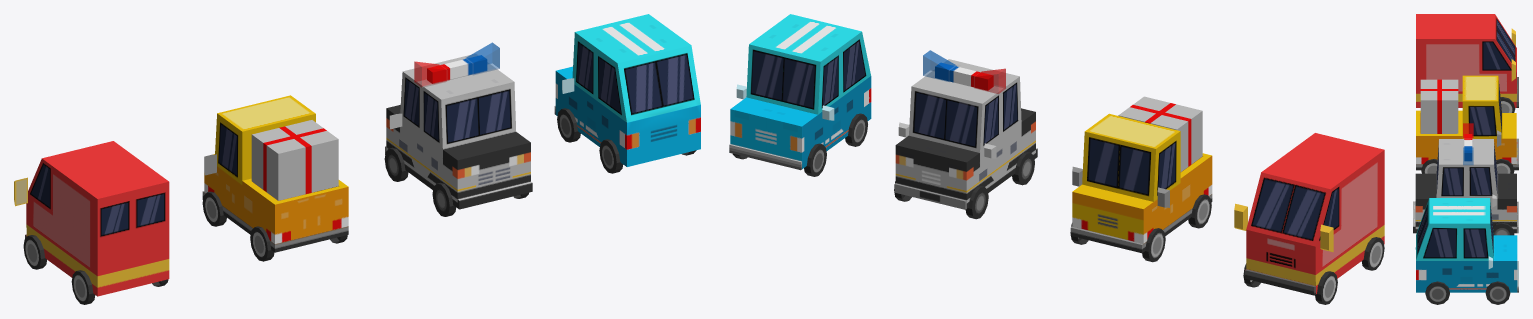
Rendered from Cars_v01.fbx.
3 renders of one model, left to right at view 1: azimuth 30°, elevation 25°; view 2: azimuth 150°, elevation 25°; view 3: azimuth 270°, elevation 25°, orthographic. The views are drawn at different scales.
Visible parts, largest first — view 1: BR_van_mesh, BR_ute_mesh, BR_car_mesh, BR_cop_mesh, BR_cop_mesh_R, BR_cop_mesh_l; view 2: BR_van_mesh, BR_ute_mesh, BR_car_mesh, BR_cop_mesh, BR_cop_mesh_R, BR_cop_mesh_l; view 3: BR_car_mesh, BR_van_mesh, BR_ute_mesh, BR_cop_mesh, BR_cop_mesh_R, BR_cop_mesh_l.
Boxes of the visible parts, x1,y1,x2,y2 form: BR_van_mesh: [14, 141, 169, 304]; BR_ute_mesh: [202, 95, 348, 261]; BR_car_mesh: [554, 14, 700, 173]; BR_cop_mesh: [384, 54, 532, 216]; BR_cop_mesh_R: [465, 42, 499, 75]; BR_cop_mesh_l: [414, 61, 446, 87]; BR_van_mesh: [1234, 133, 1384, 304]; BR_ute_mesh: [1070, 96, 1212, 262]; BR_car_mesh: [729, 14, 871, 176]; BR_cop_mesh: [894, 59, 1037, 219]; BR_cop_mesh_R: [923, 50, 956, 81]; BR_cop_mesh_l: [974, 68, 1005, 93]; BR_car_mesh: [1415, 198, 1518, 304]; BR_van_mesh: [1416, 14, 1518, 112]; BR_ute_mesh: [1416, 75, 1518, 173]; BR_cop_mesh: [1413, 134, 1518, 235]; BR_cop_mesh_R: [1463, 147, 1473, 164]; BR_cop_mesh_l: [1463, 123, 1473, 138].
Bounding box in the file's own units: 2520 × 511 × 514.
